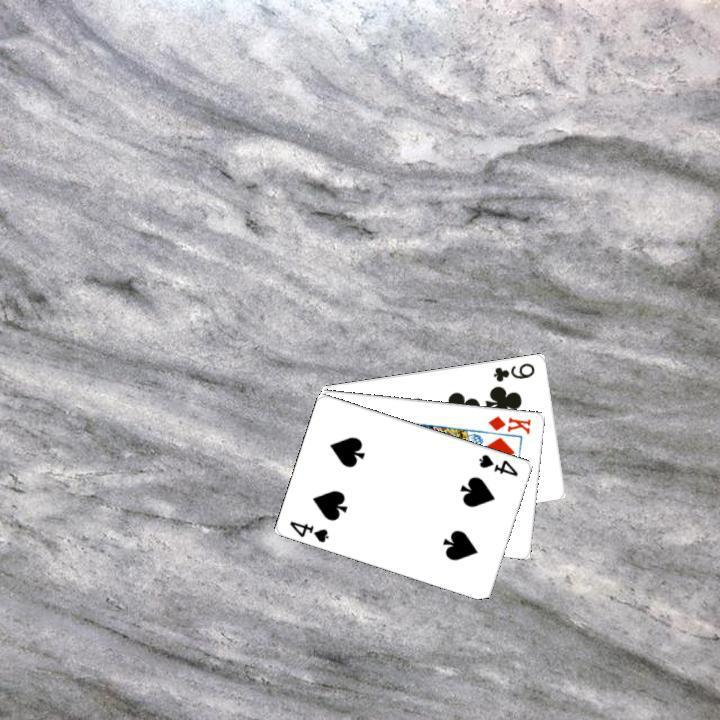4: (475, 450, 520, 478), (286, 516, 331, 544)
9: (489, 358, 537, 383)
K: (484, 411, 533, 436)
